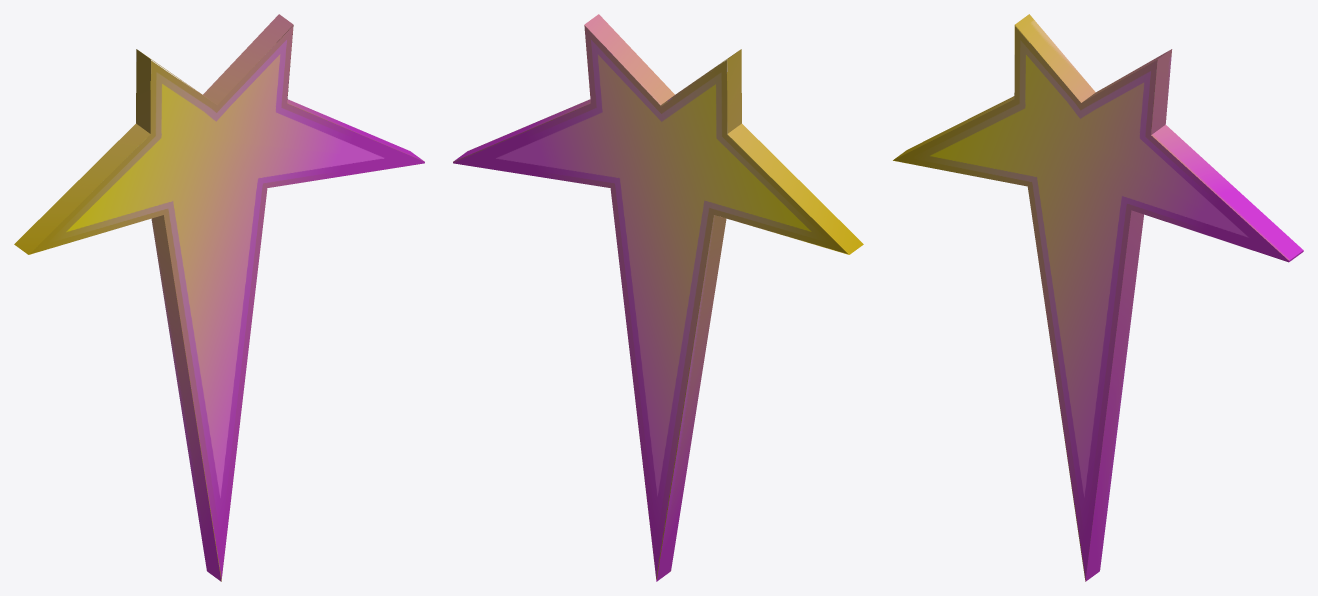
Rendered from starpick.fbx.
The picture shows the model from 3 angles, left to right: view 1: azimuth 30°, elevation 25°; view 2: azimuth 150°, elevation 25°; view 3: azimuth 330°, elevation 25°; orthographic projection.
Parts seen in each view (by area): view 1: starpick; view 2: starpick; view 3: starpick.
Boxes of the visible parts, x1,y1,x2,y2 form: starpick: (14, 14, 424, 581); starpick: (453, 14, 863, 581); starpick: (893, 14, 1303, 581).
Bounding box in the file's own units: 76.86 × 100 × 4.89.
